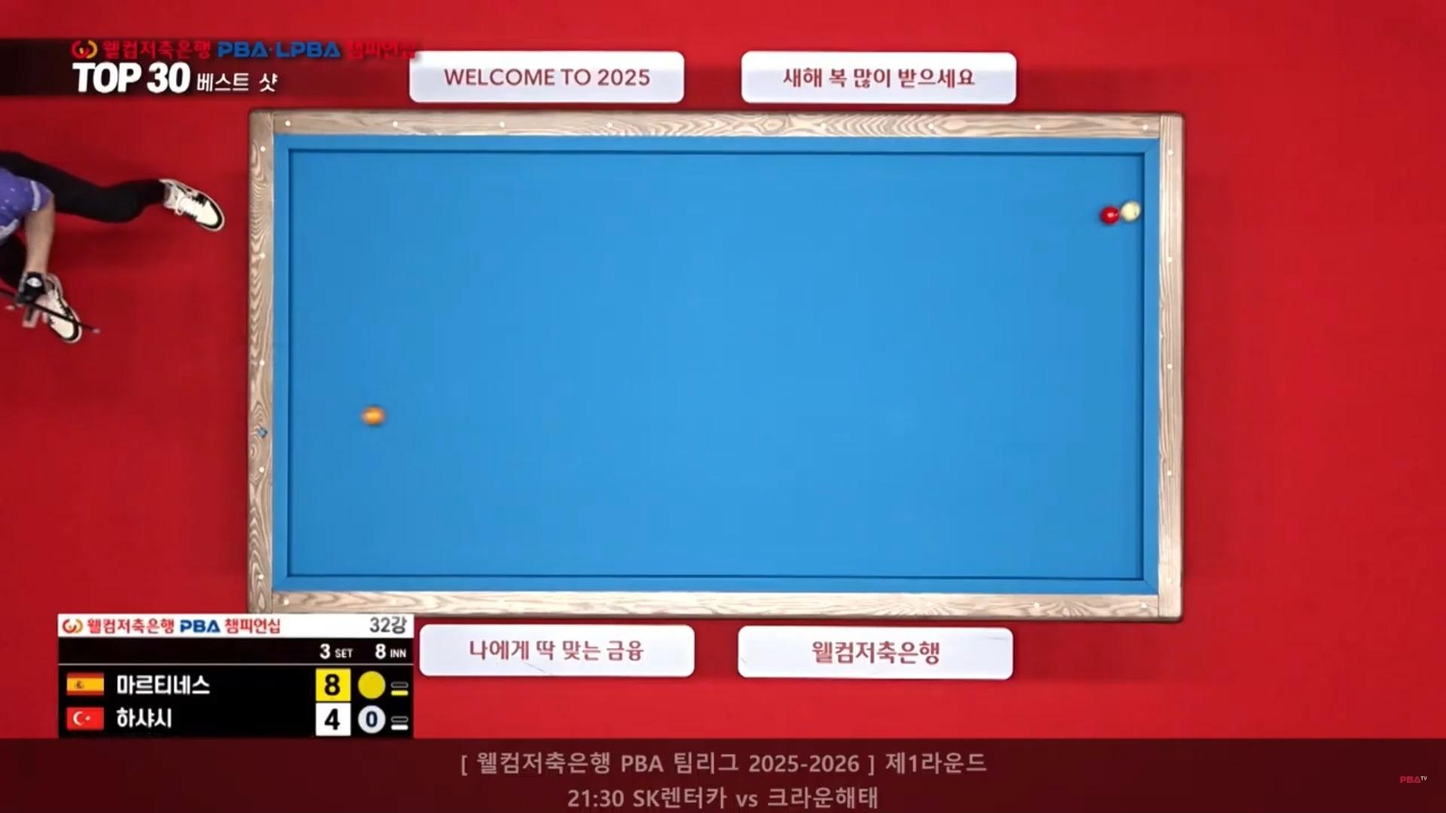-billiard-ball: (361, 404, 384, 426)
Red: (1102, 208, 1124, 226)
White: (1119, 203, 1142, 223)
